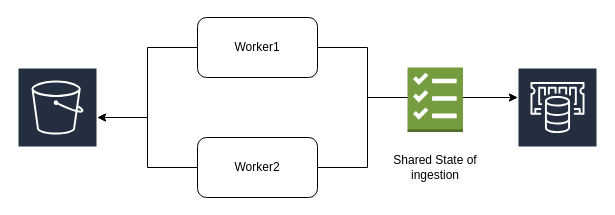
Image size: 615x215. Some labels were removed from this diagram. Here are the shapes that lost their labels. From the top down, the centre of each, then its label:
(x=57, y=117): Amazon S3
(x=557, y=122): Amazon ElastiCache
